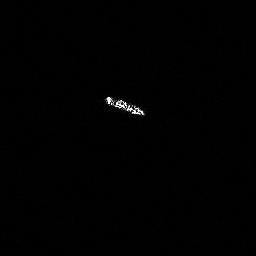ship: (104, 94, 147, 117)
